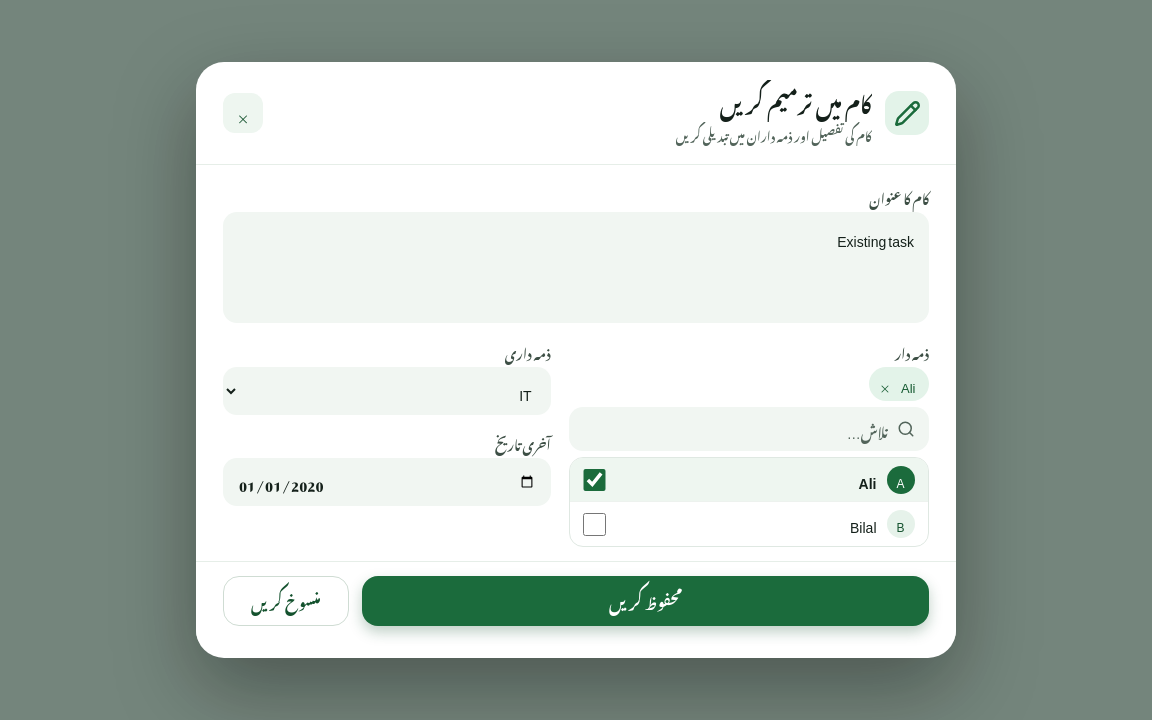
Scenario: TaskFormModal (docs/09-frontend-features.md §2, §10) › assignee chip can be removed by clicking its × button
The image size is (1152, 720).
Expected: the text box showing "Existing task" is shown, [223,212,929,323]
Click the button named "Ali ہٹا دیں": x=885, y=384 [869,367,901,401]
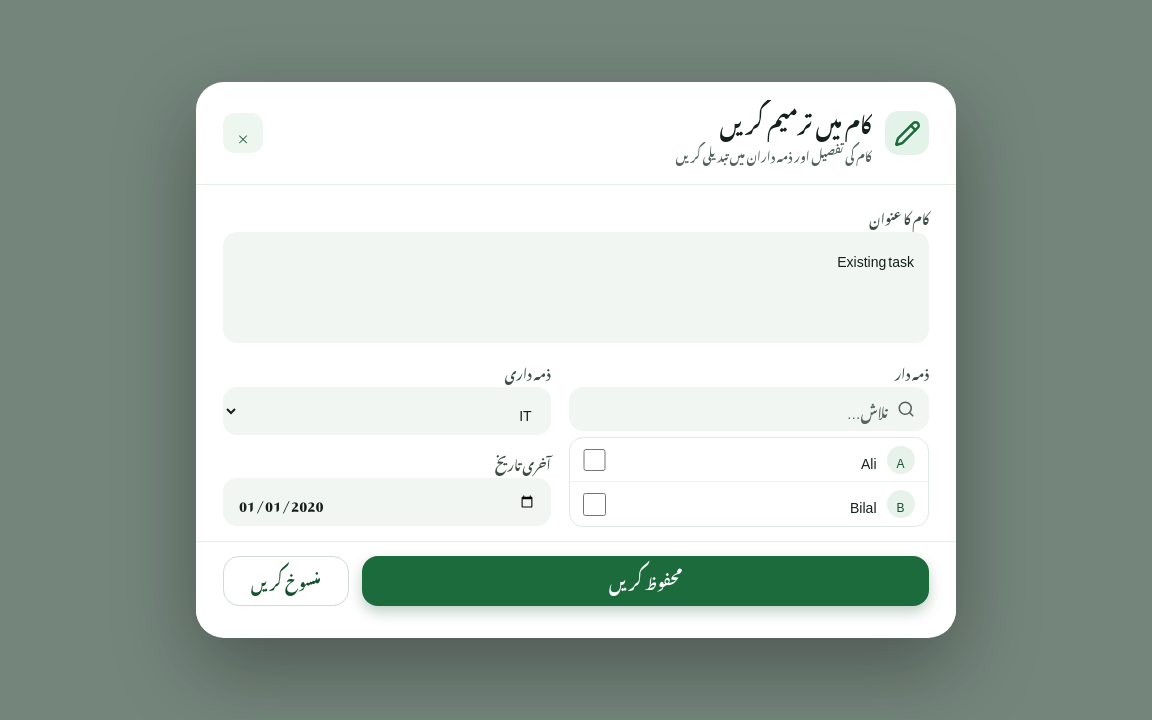
Click the button "محفوظ کریں": x=646, y=581 [362,556,929,606]
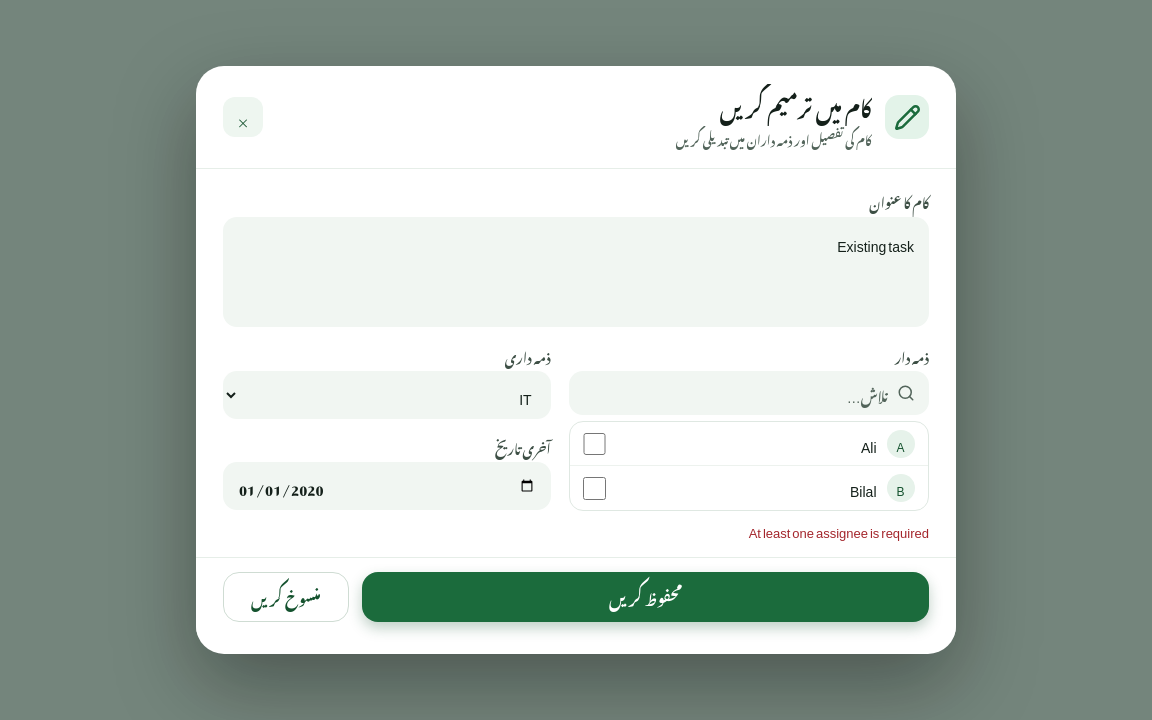
Now the text "At least one assignee is required" is shown, box [749,513,929,546]
